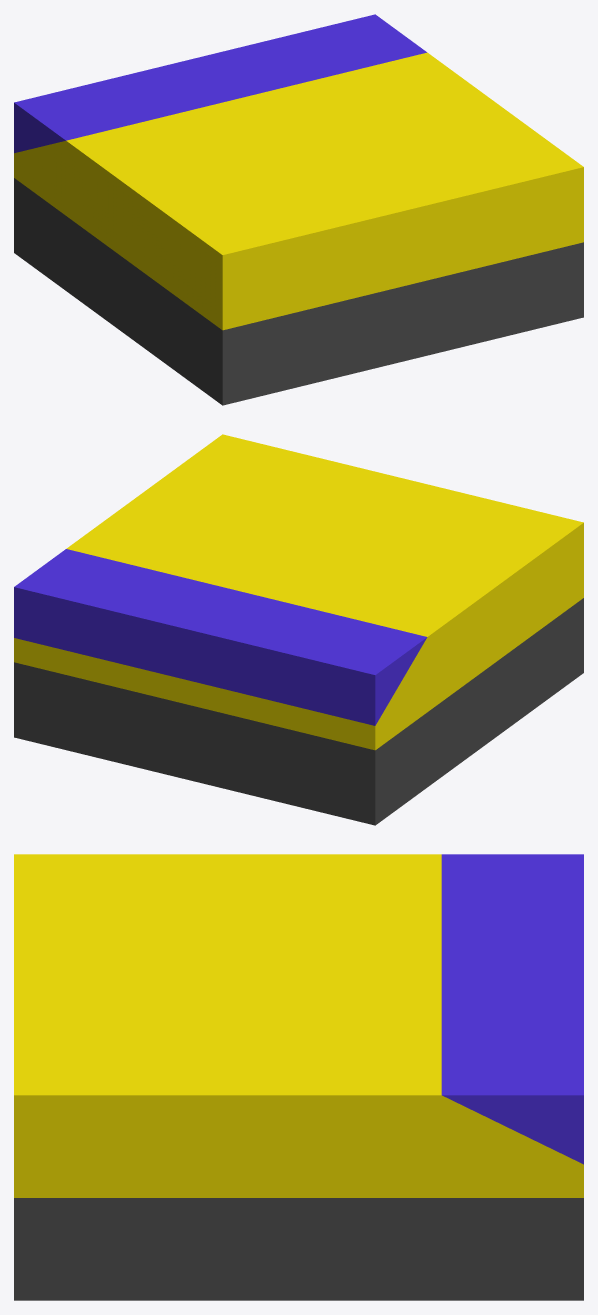
File: Biome_Beach_HD.glb
3 views of the same model, one above another, from view 1: azimuth 30°, elevation 25°; view 2: azimuth 150°, elevation 25°; view 3: azimuth 270°, elevation 25° (orthographic). The views are drawn at different scales.
Parts seen in each view (by area): view 1: Cube; view 2: Cube; view 3: Cube.
Part boxes in pixels (left/top/right/bottom): Cube: left=14, top=14, right=583, bottom=405; Cube: left=14, top=434, right=583, bottom=825; Cube: left=14, top=854, right=583, bottom=1300.
Bounding box in the file's own units: 2.58 × 1.03 × 2.58.
